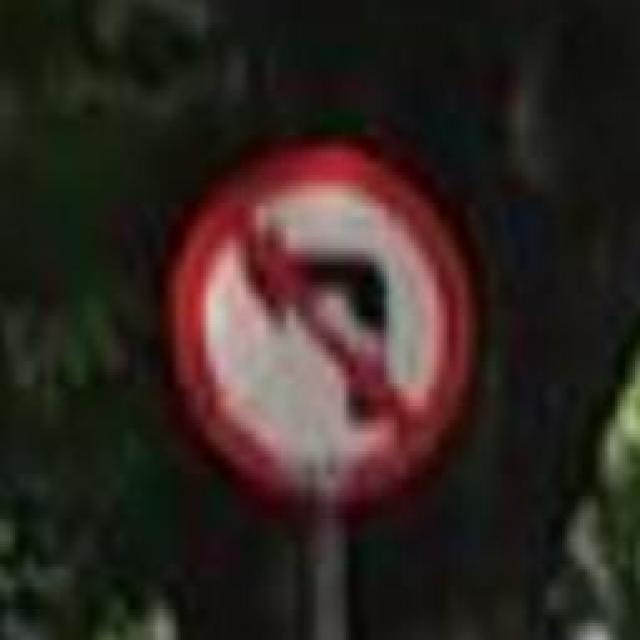traffic sign: (179, 158, 475, 505)
